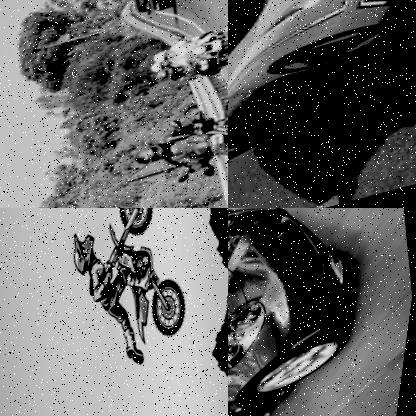bike: (92, 208, 212, 354), (167, 75, 228, 192), (174, 19, 228, 77), (181, 47, 228, 87)
car: (228, 208, 410, 416), (228, 0, 416, 198), (129, 0, 182, 19), (115, 0, 141, 6)
